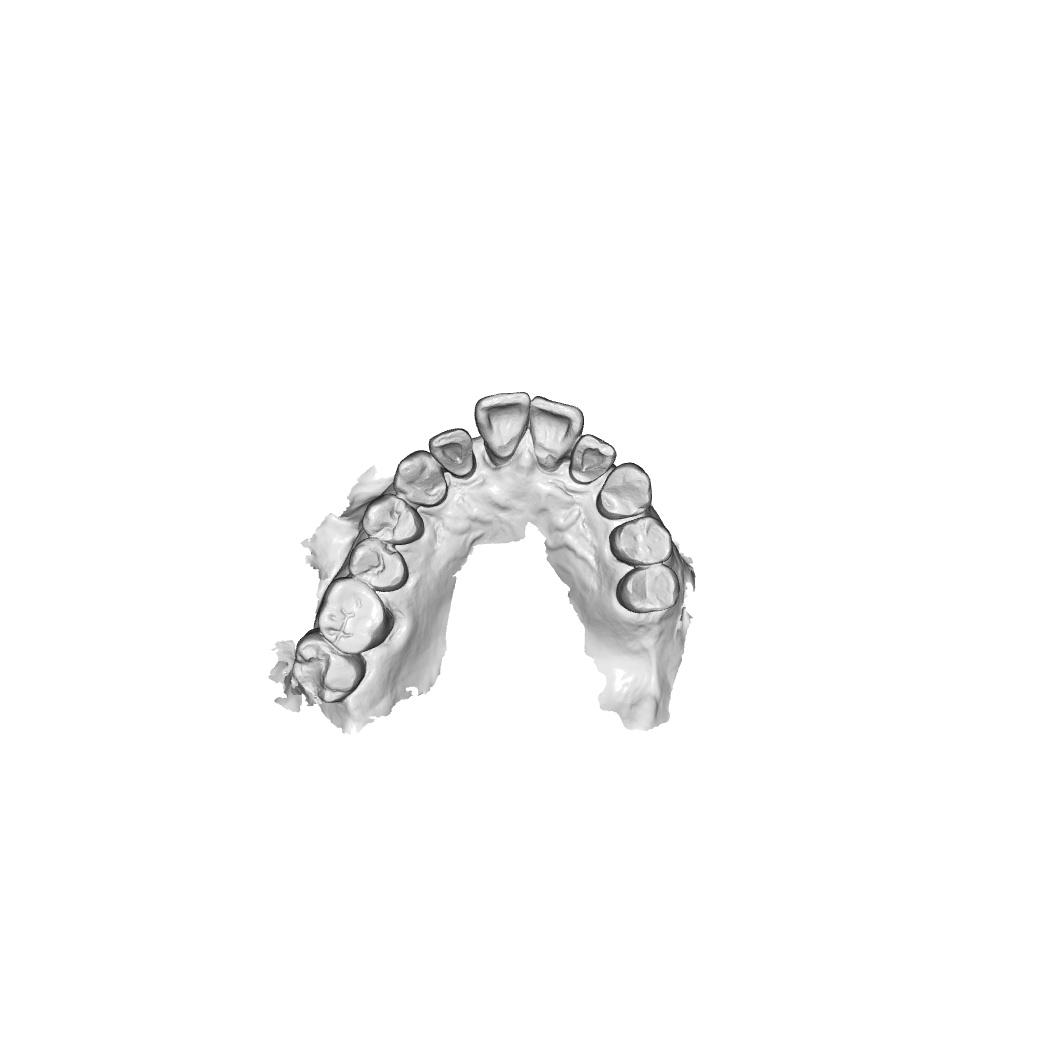canine: (596, 461, 653, 520), (392, 449, 449, 508)
incisor: (528, 395, 585, 471), (474, 391, 531, 460), (568, 433, 617, 486), (428, 427, 474, 478)
molar: (317, 576, 396, 655), (291, 626, 367, 705)
premolar: (347, 537, 409, 593), (361, 493, 425, 546), (608, 515, 673, 567), (615, 564, 680, 613)
